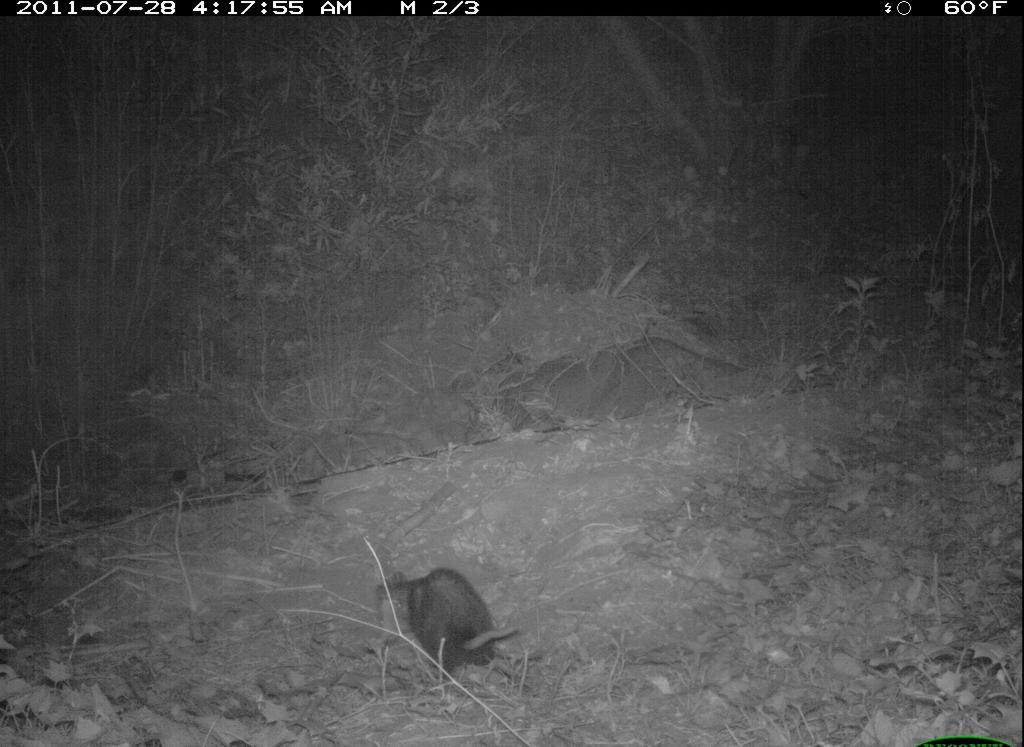opossum: (372, 557, 524, 690)
